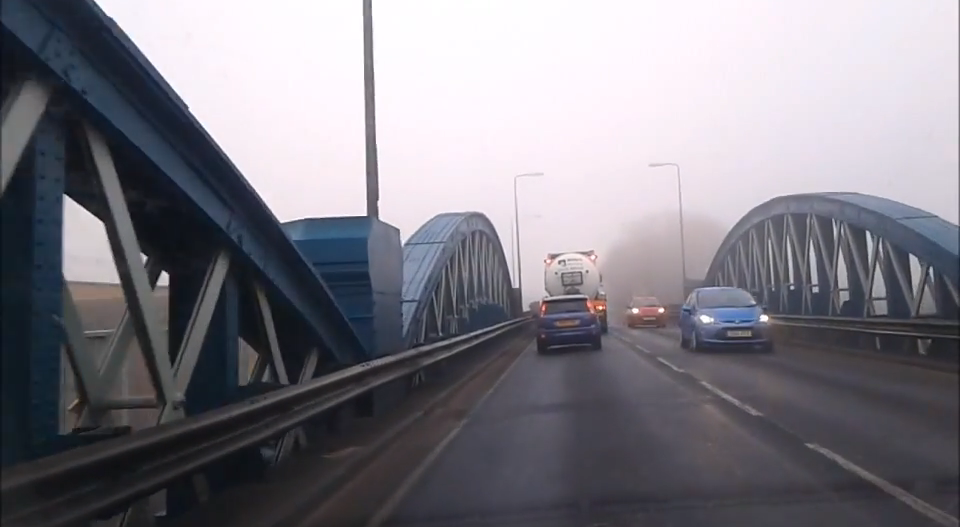car: (676, 285, 774, 352), (534, 295, 604, 353), (623, 294, 667, 328)
